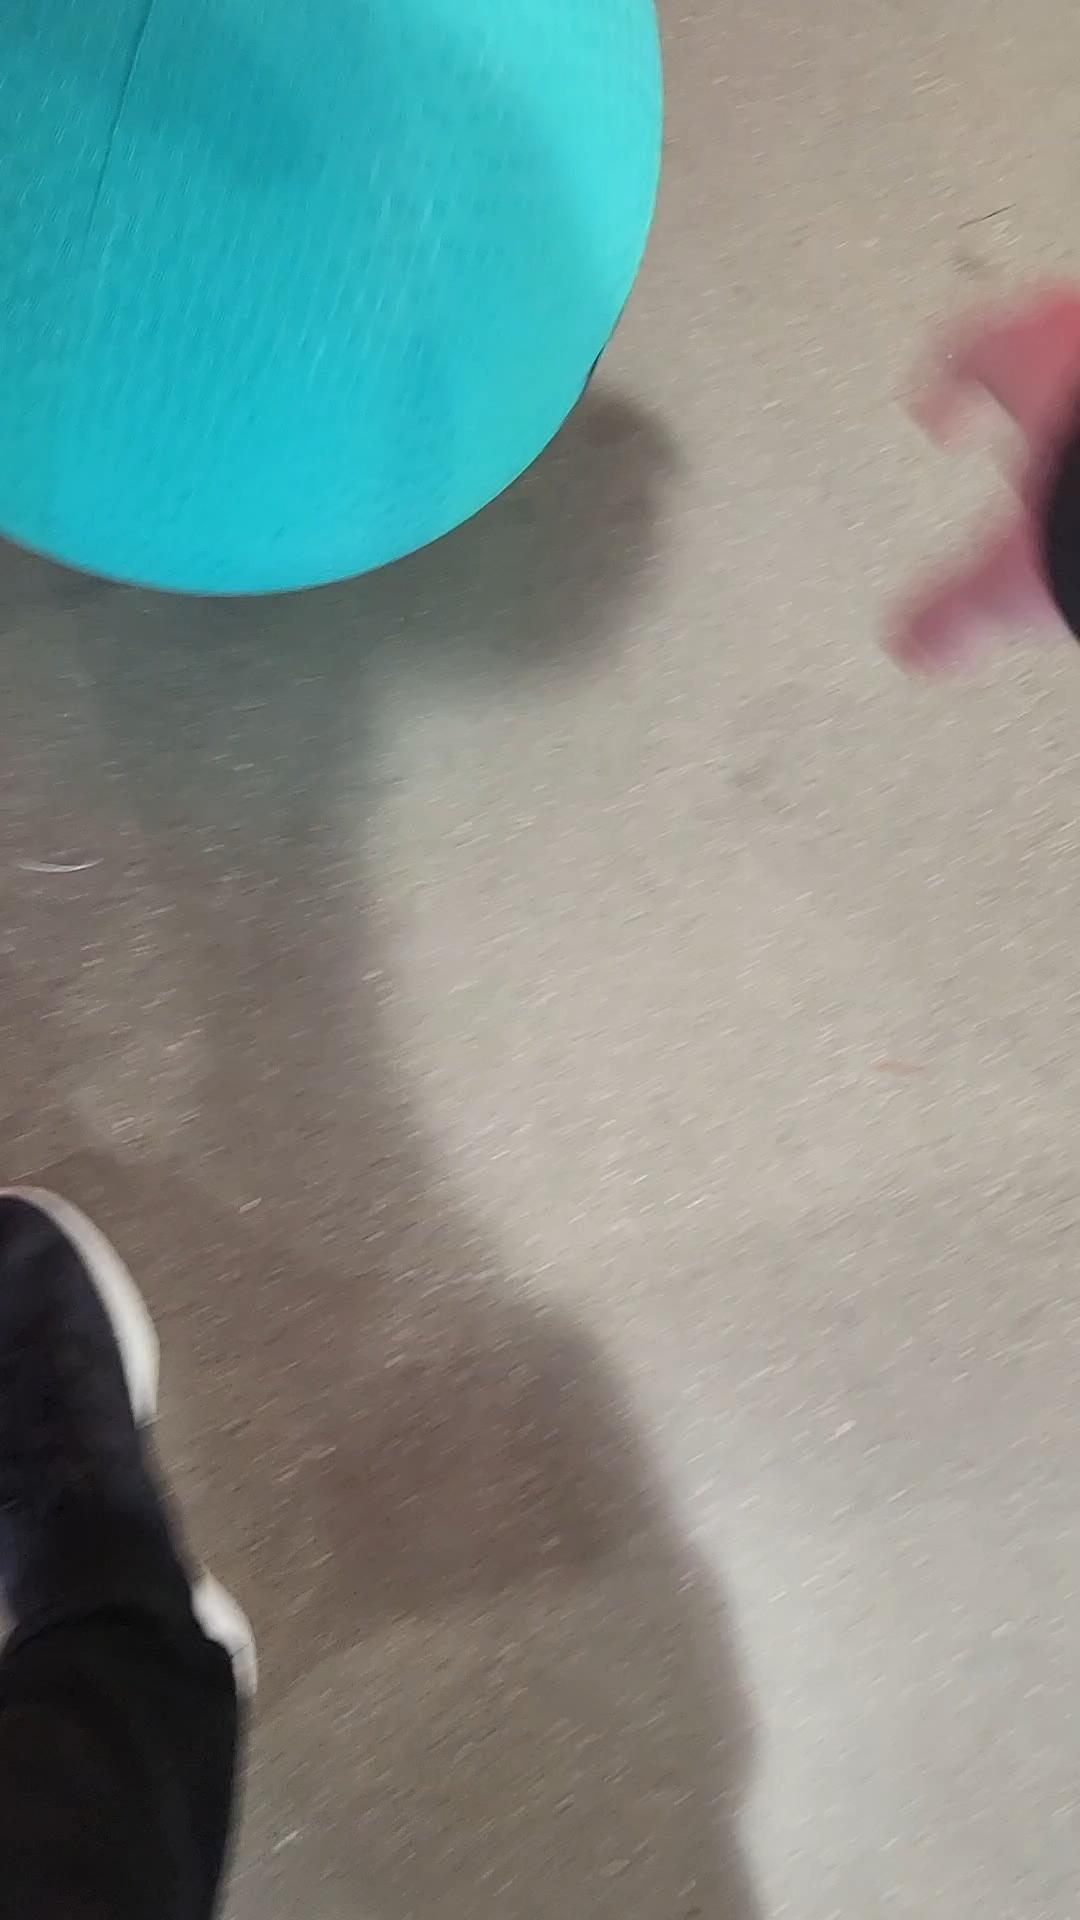algae: (0, 0, 719, 633)
